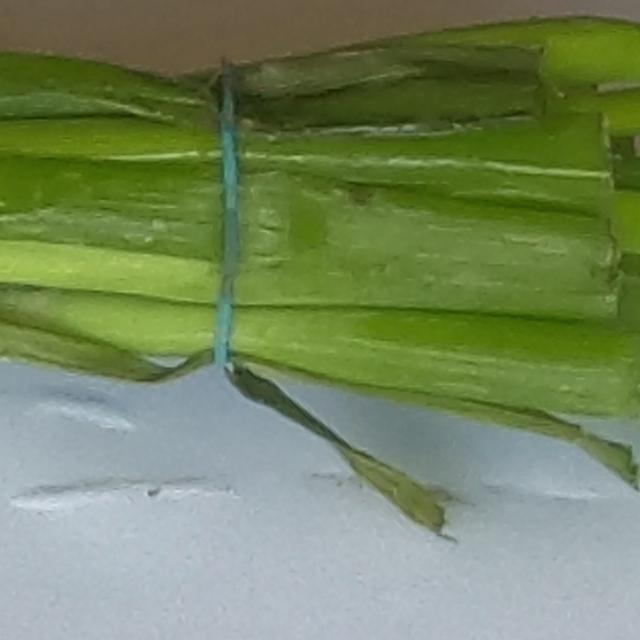green_onion: (0, 15, 640, 542)
